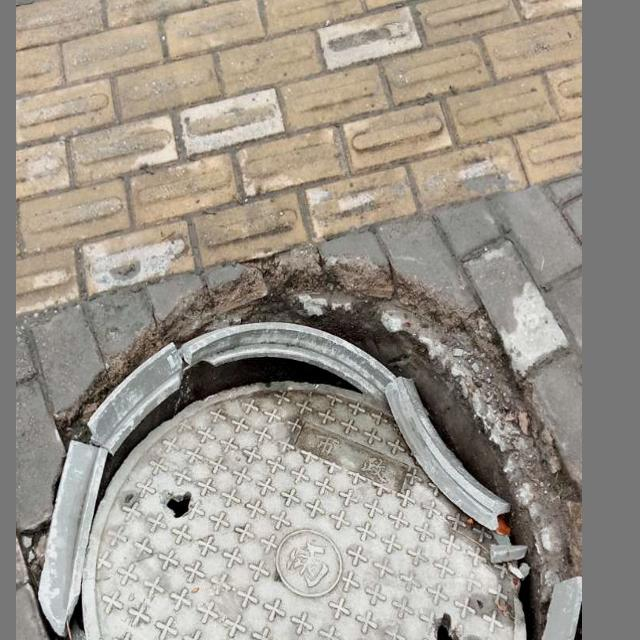circle: (23, 258, 576, 640)
